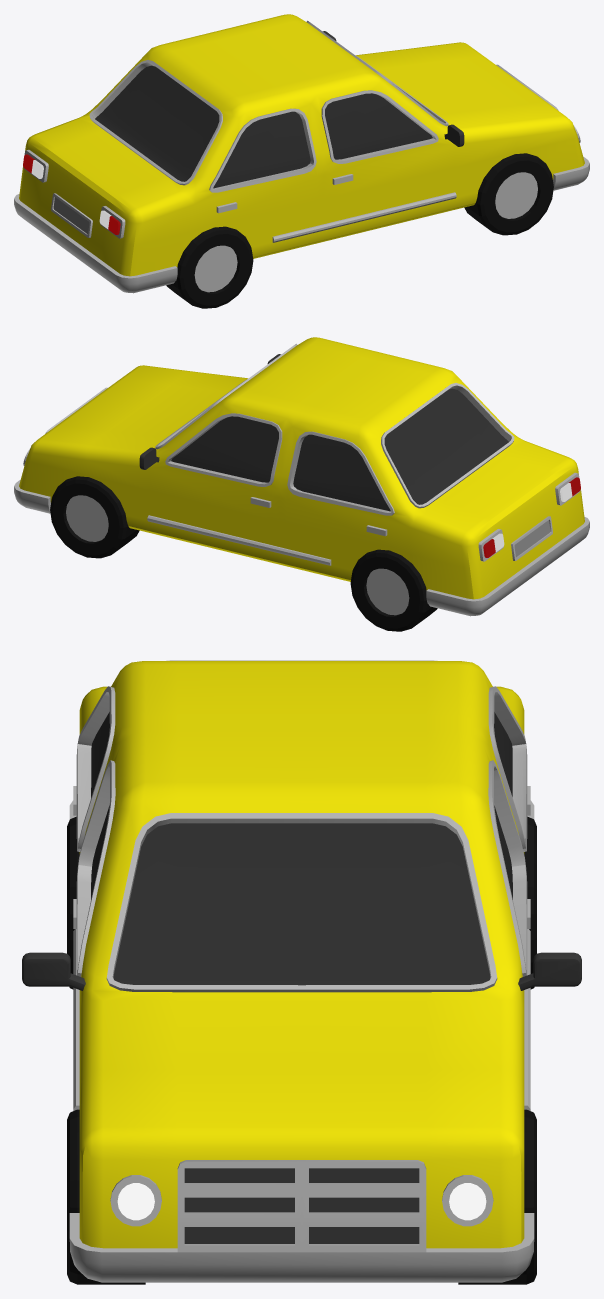
File: YellowCar.glb
The picture shows the model from 3 angles, top to bottom: view 1: azimuth 30°, elevation 25°; view 2: azimuth 150°, elevation 25°; view 3: azimuth 270°, elevation 25°; orthographic projection. The views are drawn at different scales.
Visible parts, largest first — view 1: Car; view 2: Car; view 3: Car.
Boxes of the visible parts, x1=… form: Car: x1=14, y1=14, x2=589, y2=308; Car: x1=14, y1=337, x2=589, y2=631; Car: x1=22, y1=660, x2=581, y2=1284.
Size of the model in its own units: 5.53 by 2.03 by 2.84.
